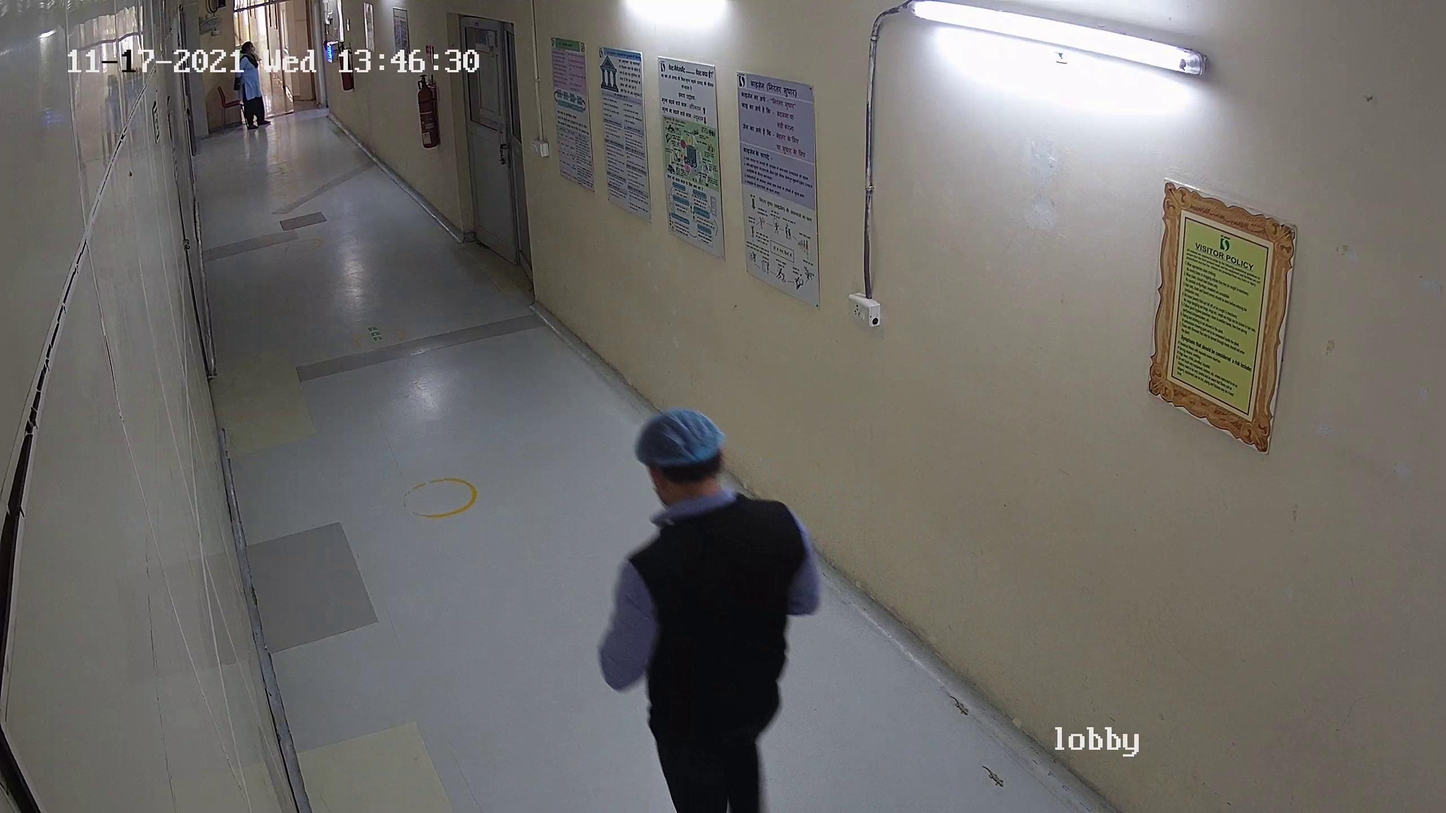lizard: (932, 678, 974, 723), (976, 753, 1013, 794)
